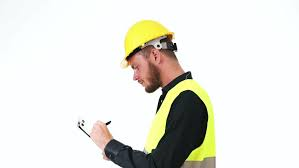Person_wearing_helmet: (115, 16, 176, 75)
